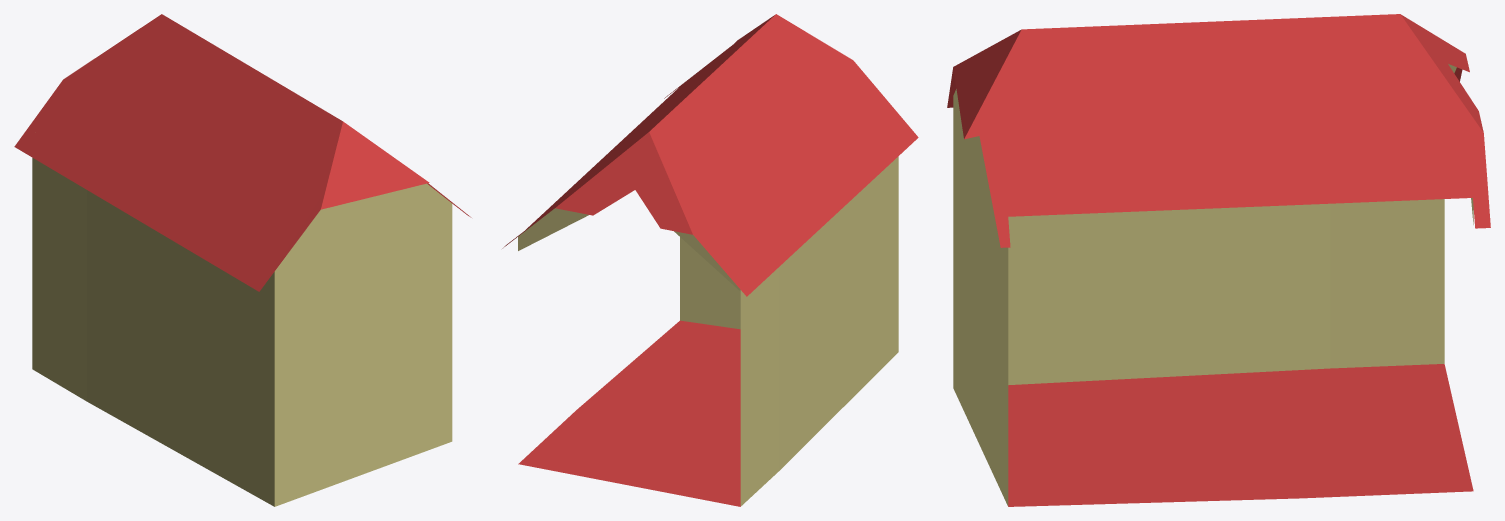
The picture shows the model from 3 angles, left to right: view 1: azimuth 30°, elevation 25°; view 2: azimuth 150°, elevation 25°; view 3: azimuth 270°, elevation 25°; orthographic projection. The views are drawn at different scales.
Size of the model in its own units: 12.05 by 17.23 by 14.55.
